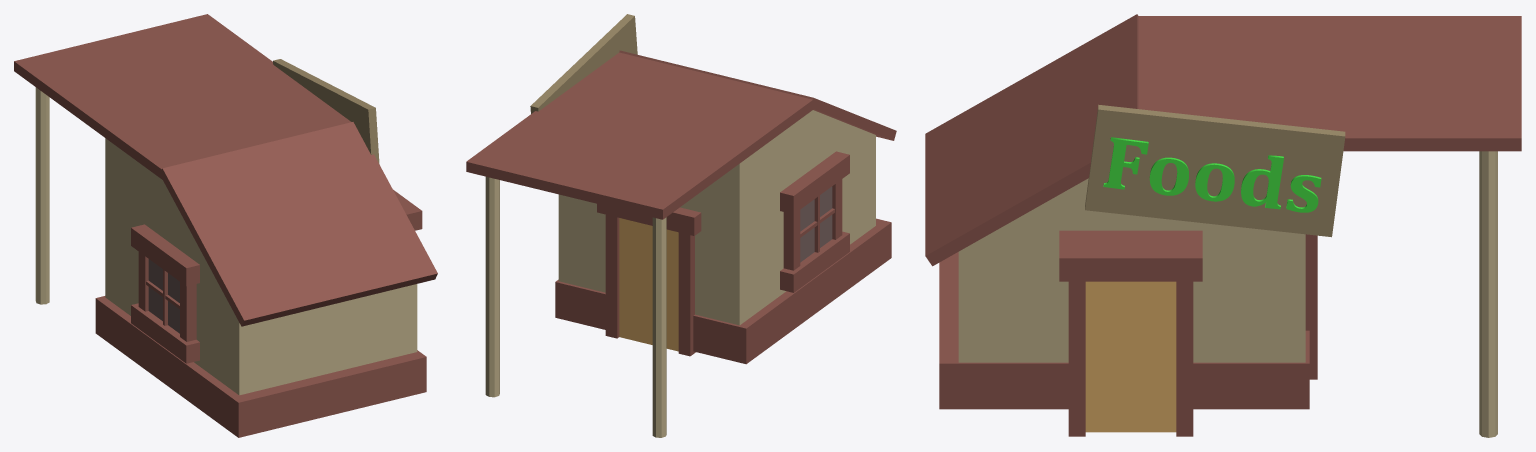
Rendered from Foods.fbx.
3 renders of one model, left to right at view 1: azimuth 30°, elevation 25°; view 2: azimuth 150°, elevation 25°; view 3: azimuth 270°, elevation 25°, orthographic. The views are drawn at different scales.
Parts seen in each view (by area): view 1: Cube.017, Cube, Cube.019, Cube.015; view 2: Cube.017, Cube, Cube.004, Cube.019, Cube.015; view 3: Cube.017, Cube, Cube.019, Cube.004, Text.
Boxes of the visible parts, x1,y1,x2,y2 form: Cube.017: [14, 14, 437, 437]; Cube: [35, 87, 417, 395]; Cube.019: [273, 59, 379, 164]; Cube.015: [148, 259, 179, 333]; Cube.017: [466, 50, 896, 364]; Cube: [485, 110, 875, 437]; Cube.004: [619, 218, 678, 351]; Cube.019: [530, 14, 637, 113]; Cube.015: [800, 186, 832, 262]; Cube.017: [925, 14, 1521, 436]; Cube: [958, 151, 1497, 437]; Cube.019: [1085, 104, 1345, 237]; Cube.004: [1085, 281, 1176, 432]; Text: [1103, 137, 1321, 212].
Bounding box in the file's own units: 414 × 435 × 700.
